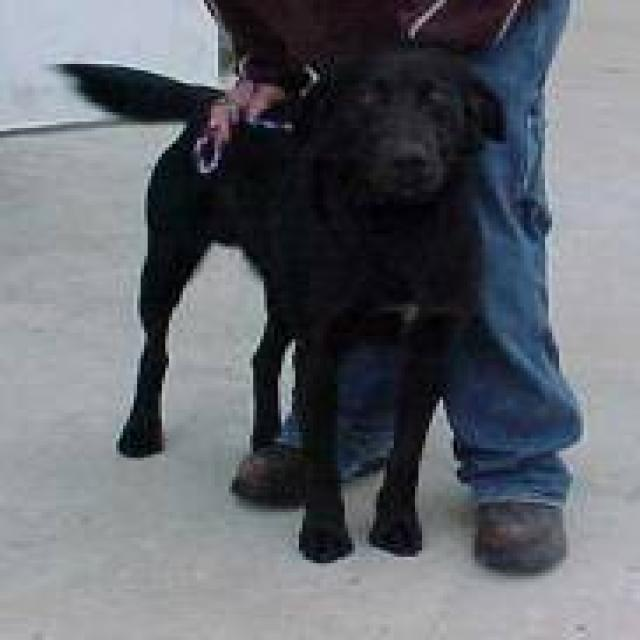Dog: (300, 36, 515, 234)
